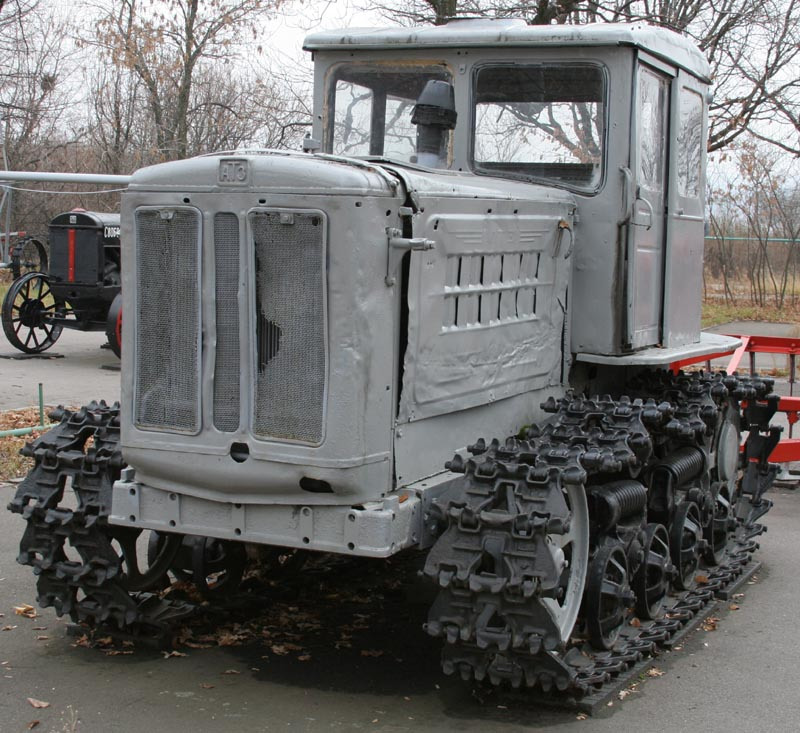tractor: (7, 21, 784, 707)
